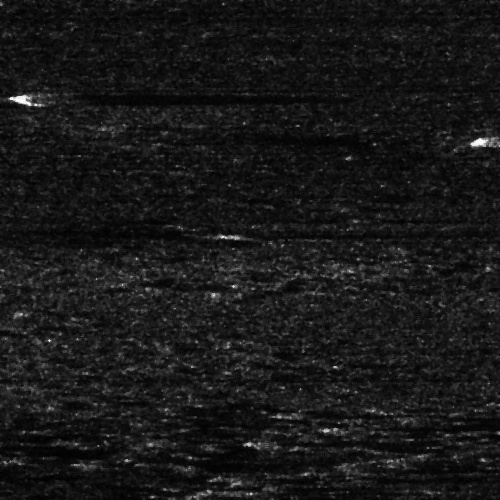object: (229, 419, 386, 430), (0, 89, 94, 102), (223, 436, 328, 445), (462, 131, 500, 146), (190, 228, 253, 237)
shadow: (32, 89, 315, 102), (221, 228, 500, 237), (308, 419, 500, 430), (275, 436, 424, 445), (0, 471, 13, 478)
